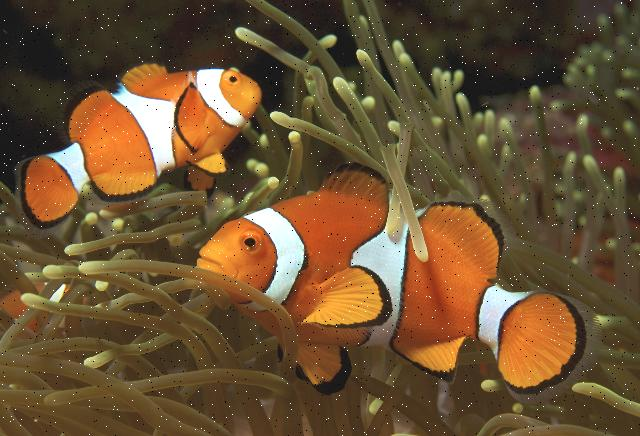Mulut: (182, 226, 245, 298), (234, 64, 276, 114)
Sirip Anal: (388, 327, 474, 389), (82, 160, 162, 210)
Sirip Dada: (287, 261, 399, 339), (168, 73, 214, 160)
Sirip Ekor: (490, 280, 612, 414), (7, 140, 89, 250)
Sirip Perut: (264, 324, 366, 400), (178, 148, 234, 202)
Sirip Punggung: (310, 145, 508, 281), (59, 51, 178, 143)
